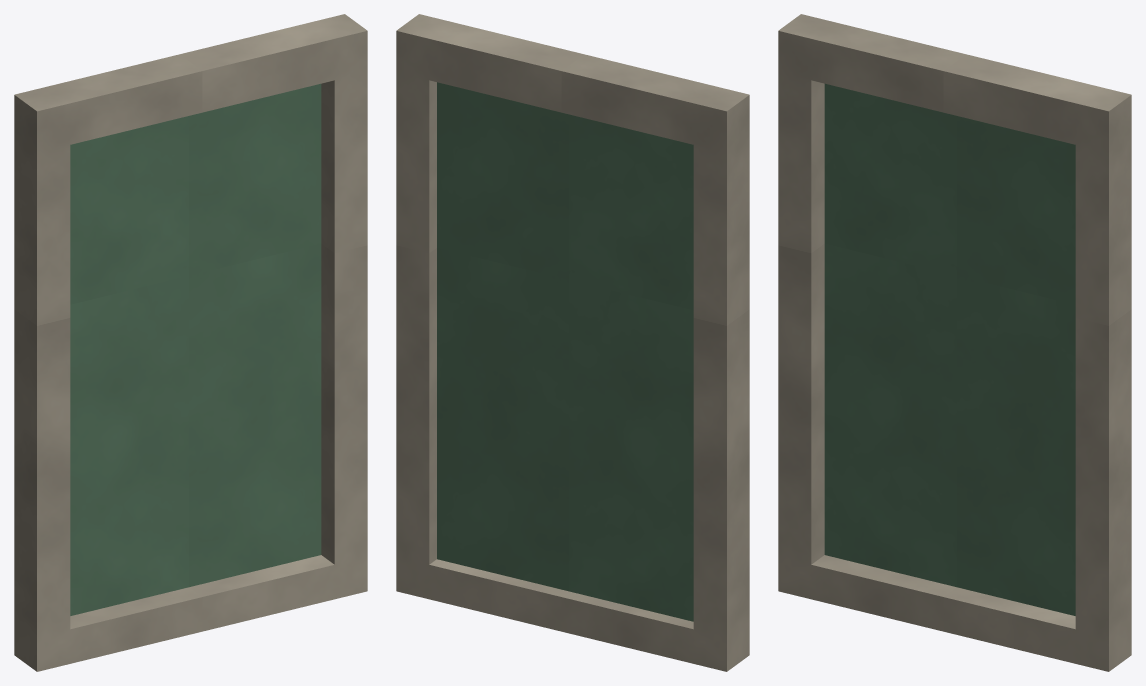
Rendered from Window_Leaded_1_LOD2.gltf.
3 views of the same model, side by side, from view 1: azimuth 30°, elevation 25°; view 2: azimuth 150°, elevation 25°; view 3: azimuth 330°, elevation 25° (orthographic).
Visible parts, largest first — view 1: Window_Leaded_1_LOD2; view 2: Window_Leaded_1_LOD2; view 3: Window_Leaded_1_LOD2.
Part boxes in pixels (x1=…): Window_Leaded_1_LOD2: x1=14, y1=14, x2=367, y2=671; Window_Leaded_1_LOD2: x1=396, y1=14, x2=749, y2=671; Window_Leaded_1_LOD2: x1=778, y1=14, x2=1131, y2=671.
Size of the model in its own units: 1 by 1.62 by 0.12.
2 materials, 2 textured.
